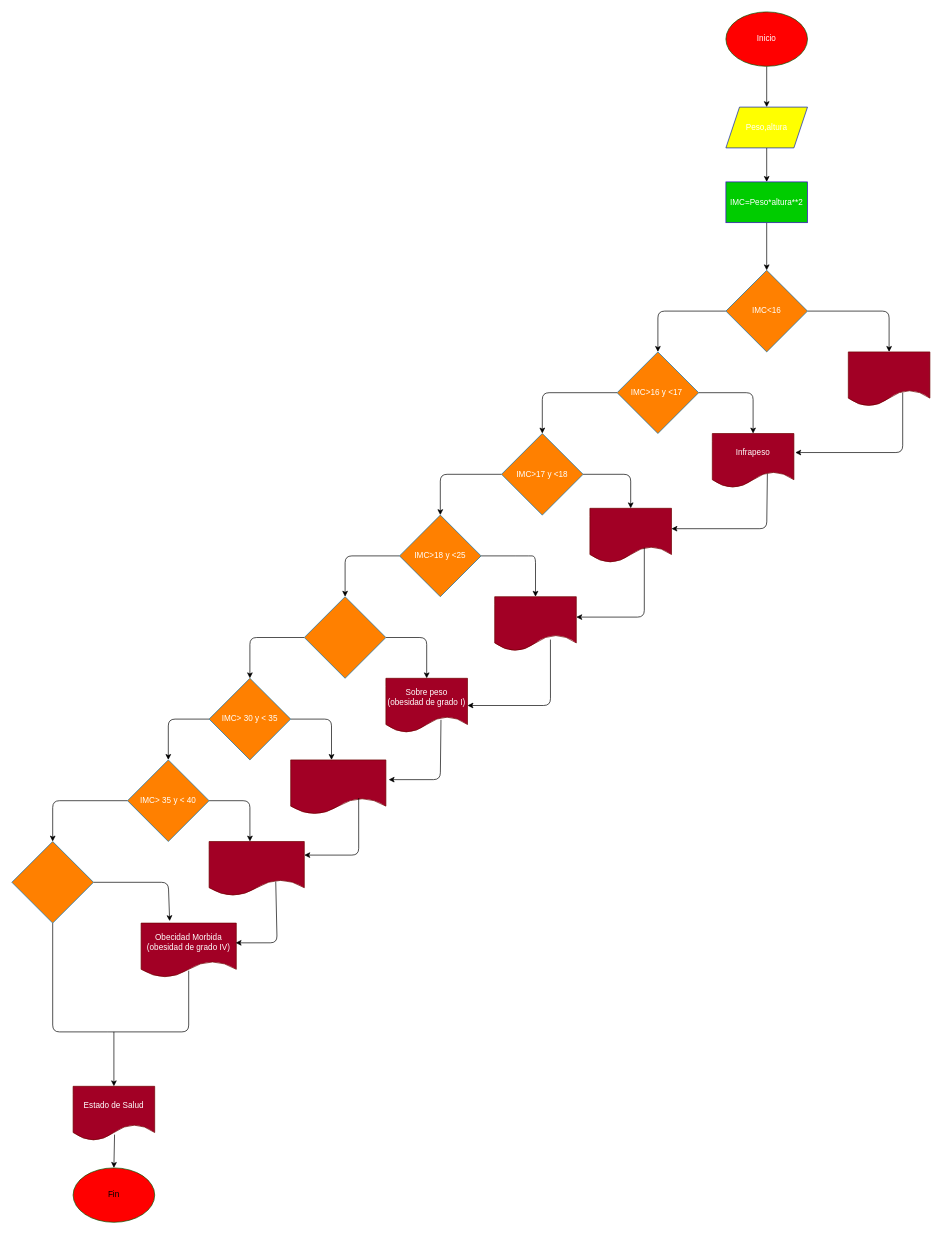
This 942x1234 diagram has some shape labels left out. The centre of each missing label's shape, as x and y in pixels:
"Bajo peso" belongs at [630,535].
"Criterio de ingreso al Hospital" belongs at [889,378].
"IMC> 25 y < 30" belongs at [345,637].
"IMC> 40" belongs at [52,882].
"Obecidad Premorbida (obesidad de grado III)" belongs at [256,868].
"Peso Nornal (Saludable)" belongs at [535,623].
"Sobrepeso Cronico (obesidad de grado II)" belongs at [338,786].
